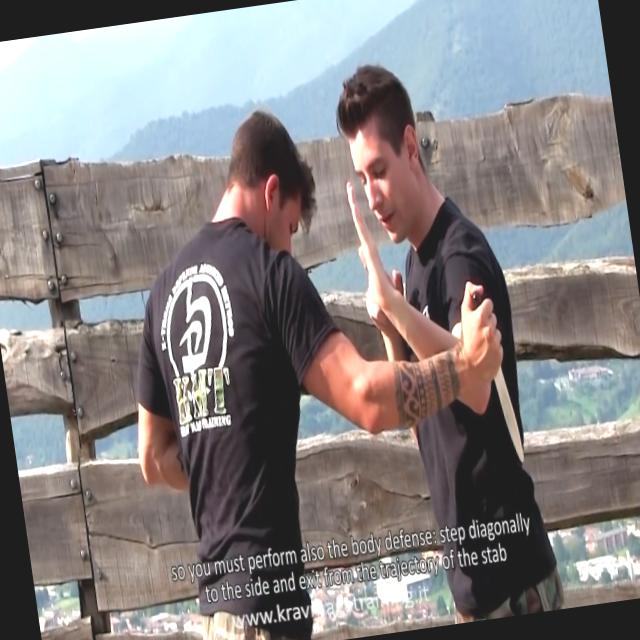knife: (455, 276, 529, 468)
